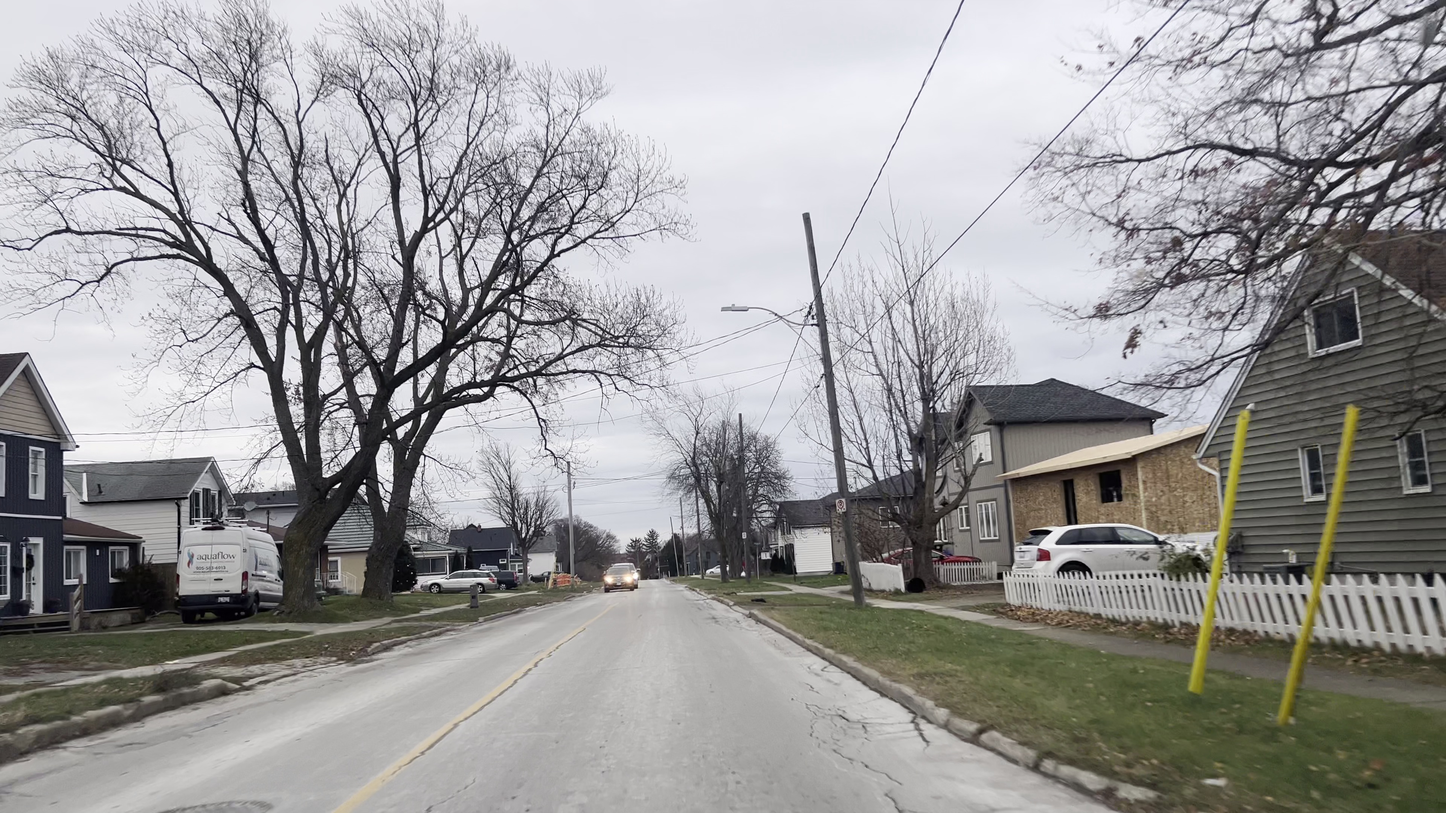cracks: (819, 700, 878, 746), (869, 766, 911, 813), (481, 669, 528, 711)
